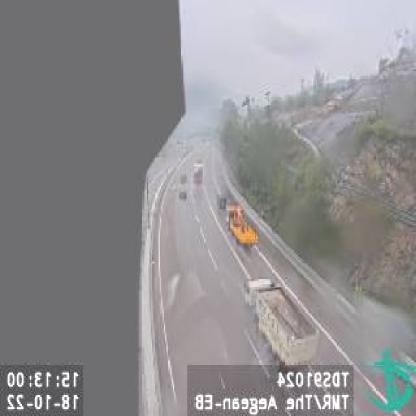Car: (179, 190, 187, 201)
Truck: (245, 279, 318, 372), (225, 200, 260, 250)
